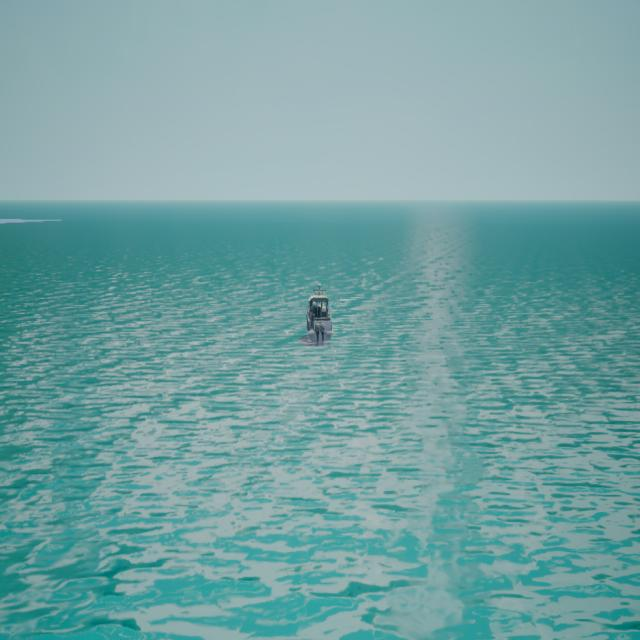ship: (306, 285, 334, 343)
